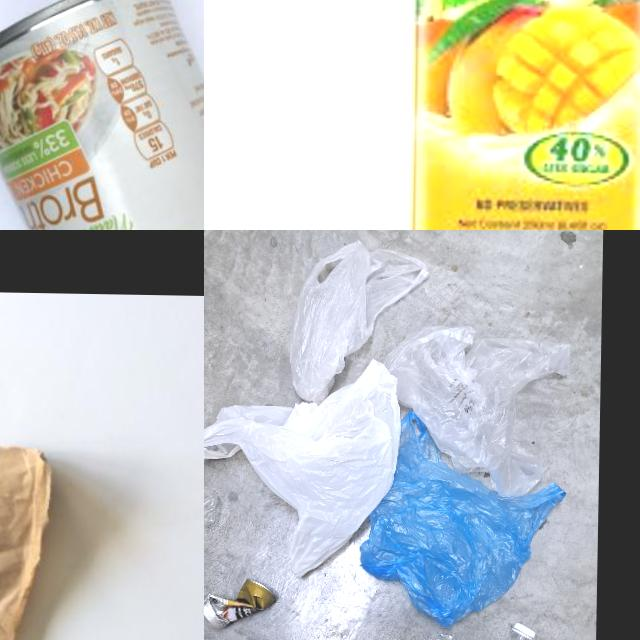caixinha: (406, 0, 640, 230)
garrafa plástica: (423, 629, 529, 640)
lata: (0, 0, 204, 230), (204, 577, 276, 630)
papelão: (0, 443, 53, 640)
sacola plástica: (356, 408, 566, 632), (204, 355, 402, 578), (382, 322, 567, 496), (287, 238, 429, 404)
tampa plástica: (512, 623, 535, 639)
